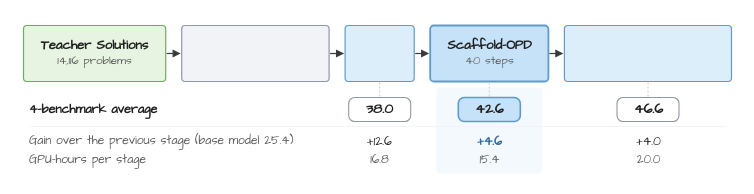
Some shapes in this 754 by 194 pixel diagram are drawn without their labels. Each missing label, with the box of its shape:
GRPO on Failures 2,212 problems · 30 steps: (563, 24, 732, 82)
Rejection Sampling 11,158 kept (79%): (181, 24, 329, 82)
SFT 1 epoch: (344, 24, 414, 82)
